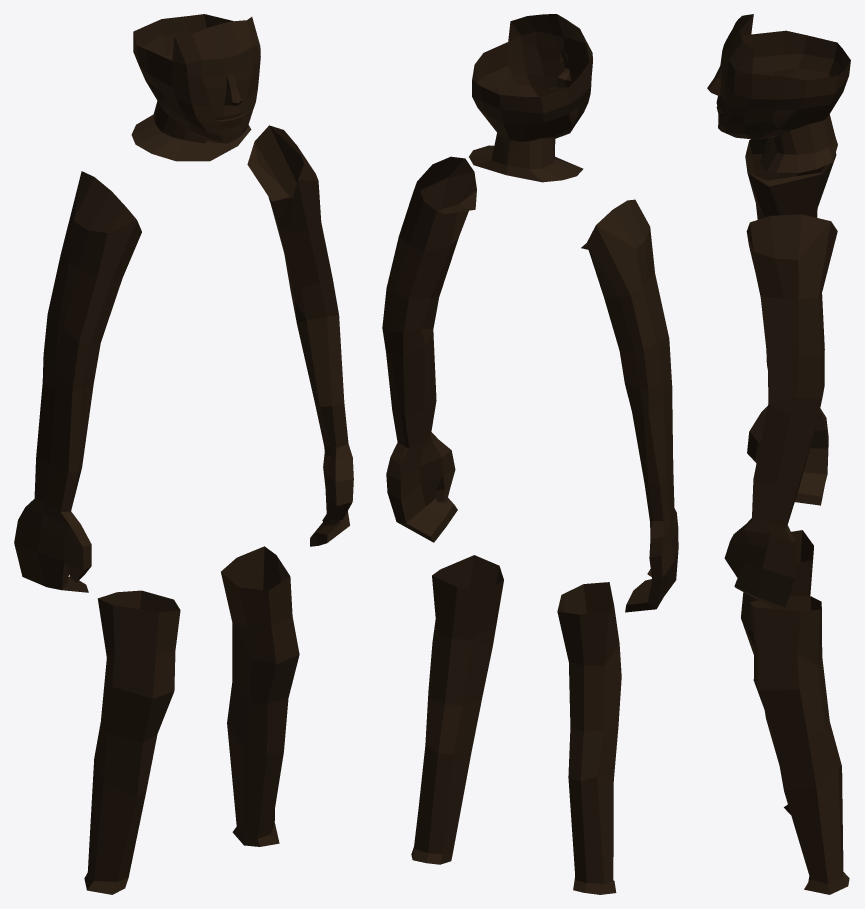
File: Skin_012.obj
3 views of the same model, side by side, from view 1: azimuth 30°, elevation 25°; view 2: azimuth 150°, elevation 25°; view 3: azimuth 270°, elevation 25° (orthographic). The views are drawn at different scales.
Size of the model in its own units: 0.6212 by 1.69 by 0.2664.
